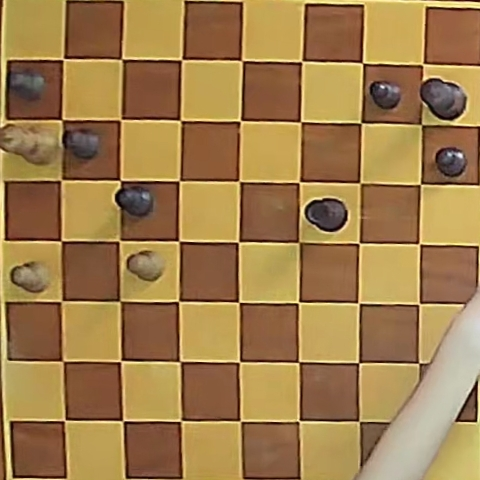black-king: (419, 78, 466, 120)
black-pawn: (115, 186, 154, 217), (9, 69, 46, 100), (65, 128, 100, 159), (435, 147, 466, 177), (370, 81, 402, 109)
black-rook: (305, 198, 347, 232)
white-king: (1, 123, 59, 164)
white-pawn: (12, 261, 50, 293), (127, 250, 165, 281)
